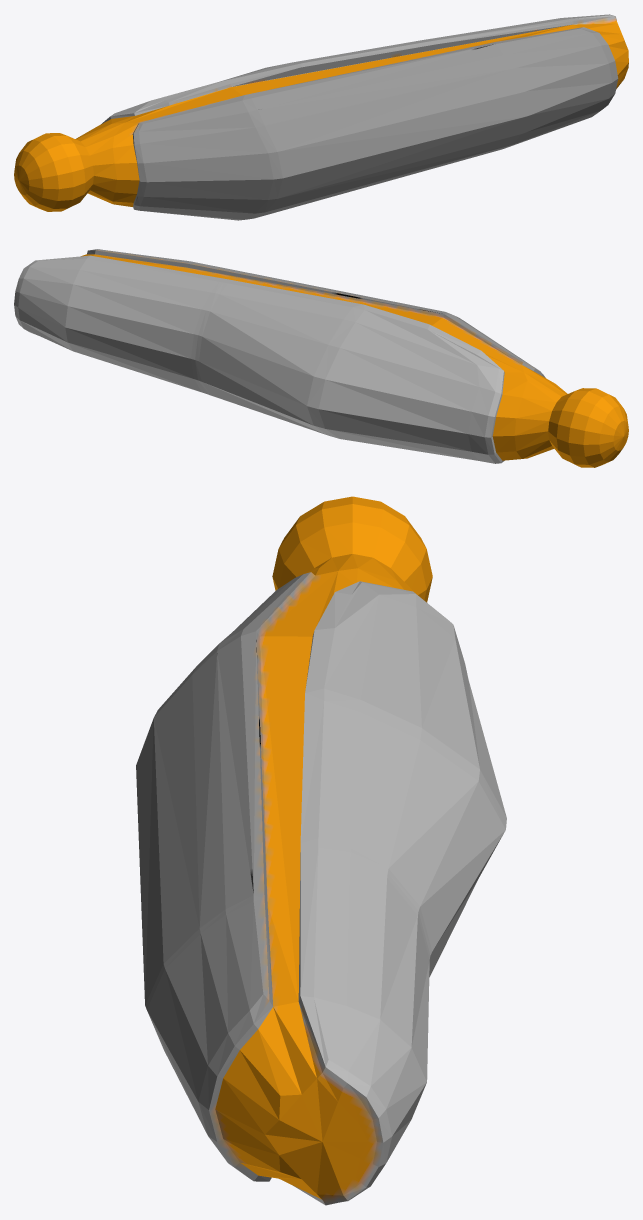
The model's file is LeftUpperArm.obj.
3 views of the same model, one above another, from view 1: azimuth 30°, elevation 25°; view 2: azimuth 150°, elevation 25°; view 3: azimuth 270°, elevation 25° (orthographic). The views are drawn at different scales.
Parts seen in each view (by area): view 1: LeftUpperArm_Mesh.012; view 2: LeftUpperArm_Mesh.012; view 3: LeftUpperArm_Mesh.012.
Part boxes in pixels (x1,y1,x2,y2): LeftUpperArm_Mesh.012: (14,14,628,220); LeftUpperArm_Mesh.012: (14,249,628,467); LeftUpperArm_Mesh.012: (136,496,506,1205).
Bounding box in the file's own units: 0.3406 × 0.0713 × 0.0918.
Materials: 1 (1 with a texture image).
